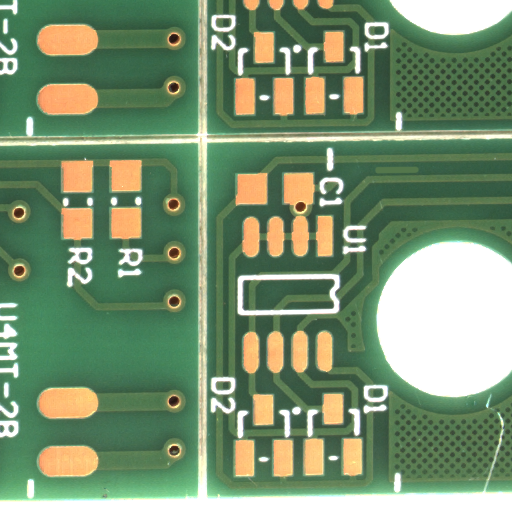Spurious_copper: (396, 170, 442, 180)
